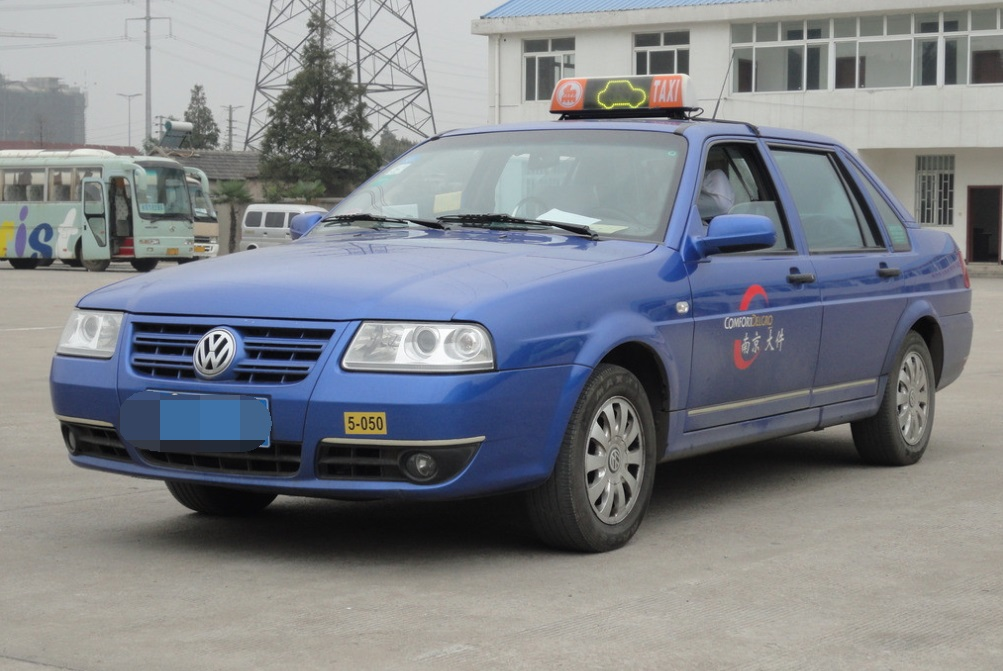taxi: (48, 70, 974, 555)
